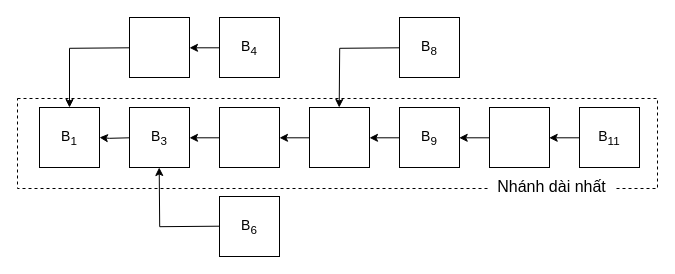
Image size: 675x274. Some labels were removed from this diagram. The centre of each missing label's shape, as x and y in pixels:
"B 10" belongs at (519,137).
"B 2" belongs at (159,47).
"B 5" belongs at (249,137).
"B 7" belongs at (339,137).
